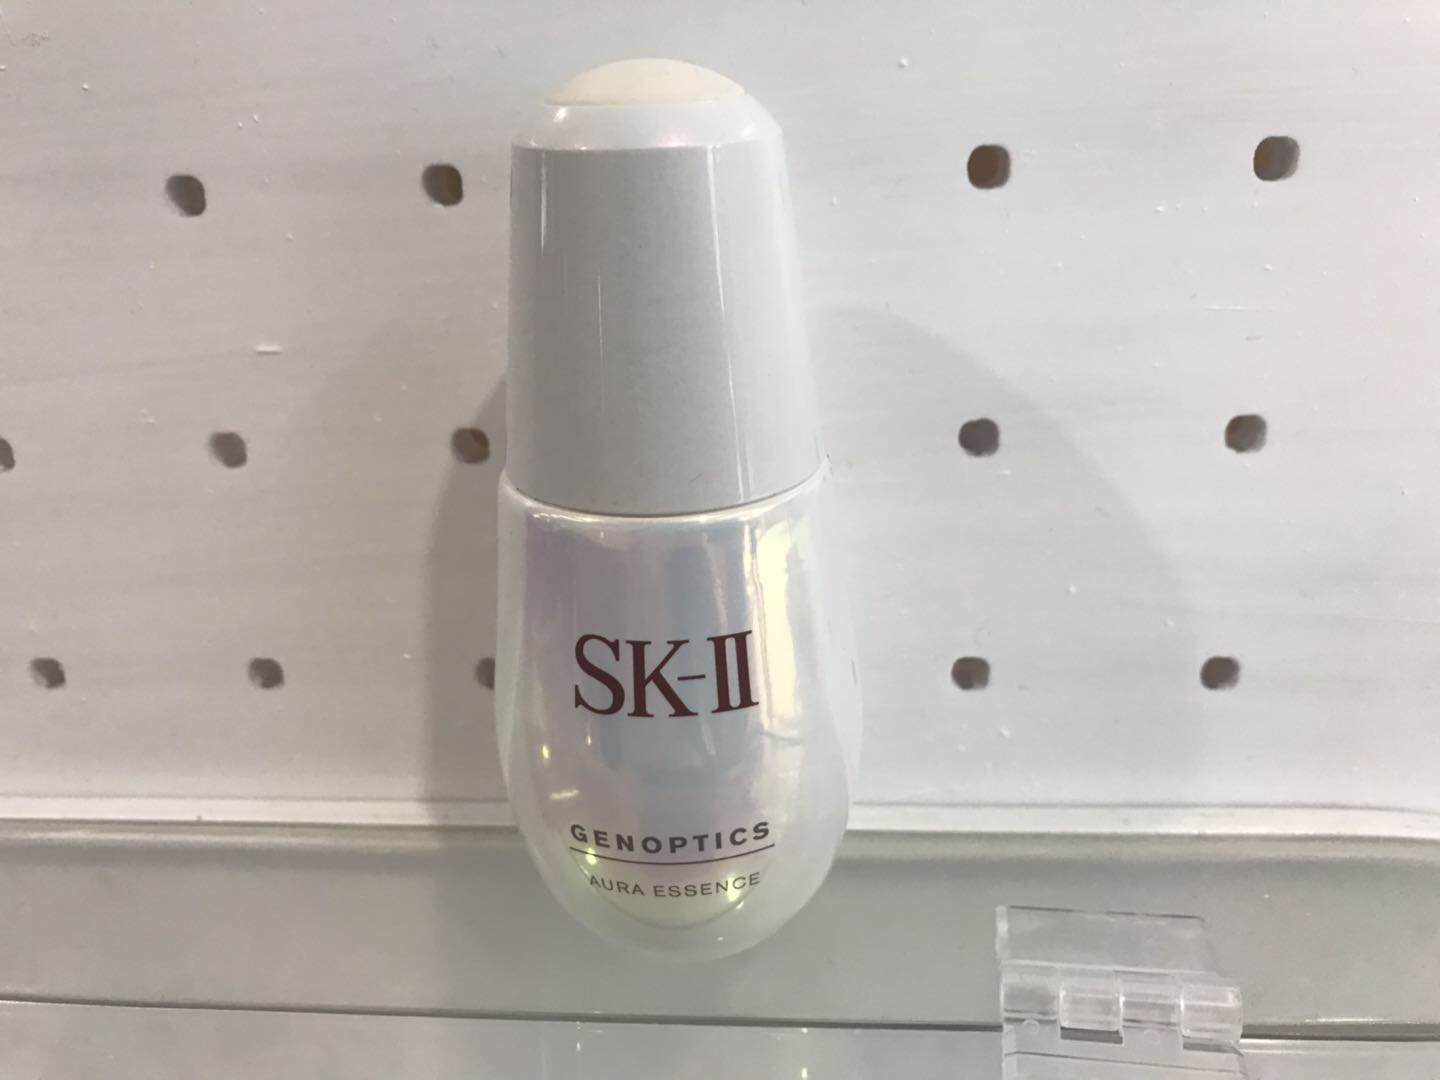sk2: (457, 44, 886, 1011)
